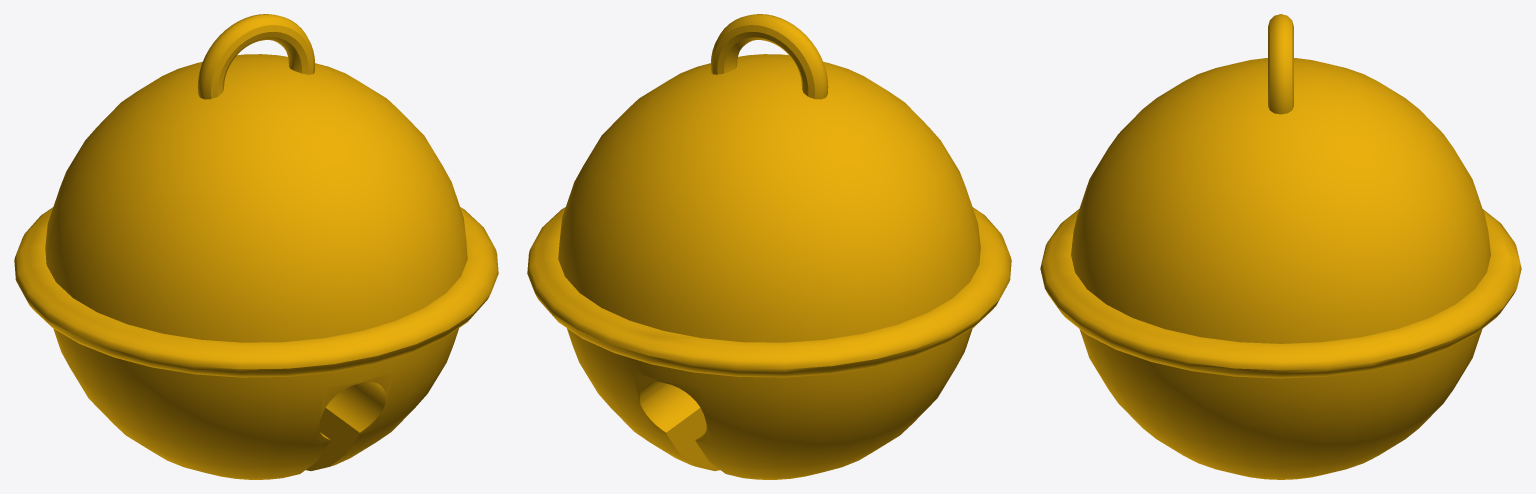
Rendered from cat.glb.
3 views of the same model, side by side, from view 1: azimuth 30°, elevation 25°; view 2: azimuth 150°, elevation 25°; view 3: azimuth 270°, elevation 25° (orthographic).
Parts seen in each view (by area): view 1: Bell; view 2: Bell; view 3: Bell.
Boxes of the visible parts, left/top/right/bottom form: Bell: left=14, top=14, right=498, bottom=479; Bell: left=527, top=14, right=1011, bottom=479; Bell: left=1040, top=14, right=1521, bottom=479.
Size of the model in its own units: 2.28 by 2.29 by 2.28.
